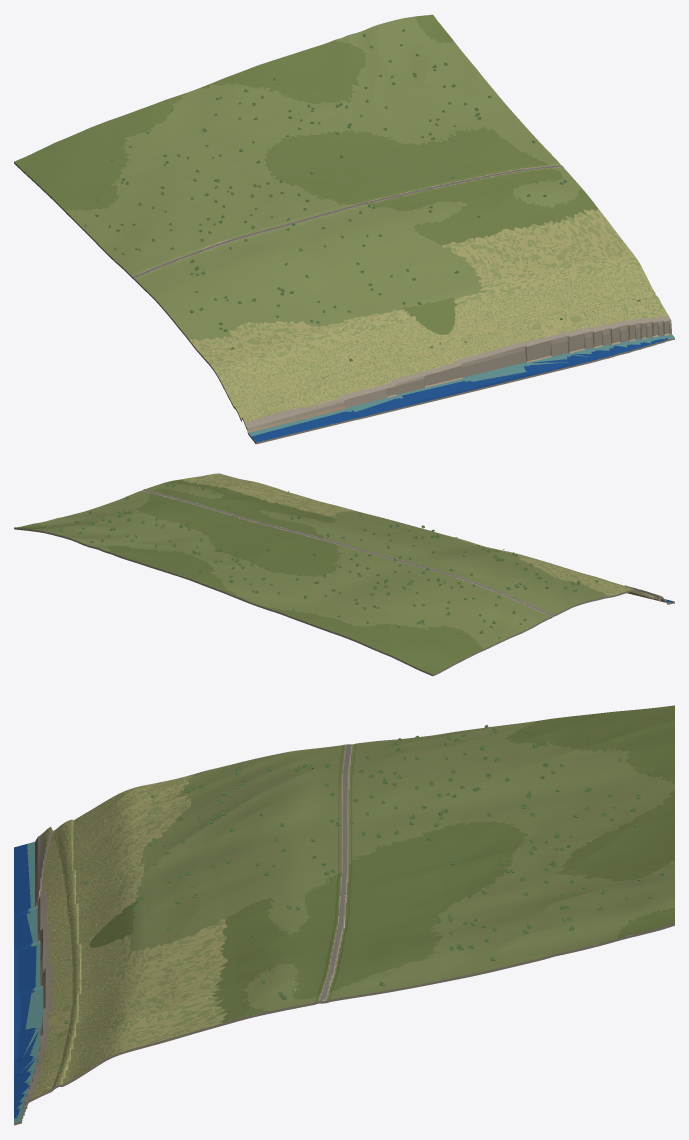
Rendered from parca_+3_-9-yakin.glb.
3 views of the same model, one above another, from view 1: azimuth 30°, elevation 25°; view 2: azimuth 150°, elevation 25°; view 3: azimuth 270°, elevation 25° (orthographic). The views are drawn at different scales.
Visible parts, largest first — view 1: parca_+3_-9_arazi, parca_+3_-9_bitkiler, parca_+3_-9_yollar; view 2: parca_+3_-9_arazi, parca_+3_-9_bitkiler, parca_+3_-9_yollar; view 3: parca_+3_-9_arazi, parca_+3_-9_bitkiler, parca_+3_-9_yollar.
Boxes of the visible parts, box(x1,y1,x2,y2) form: parca_+3_-9_arazi: box(14, 14, 674, 444); parca_+3_-9_bitkiler: box(84, 29, 655, 361); parca_+3_-9_yollar: box(133, 165, 562, 277); parca_+3_-9_arazi: box(14, 473, 674, 676); parca_+3_-9_bitkiler: box(59, 476, 598, 638); parca_+3_-9_yollar: box(142, 489, 552, 616); parca_+3_-9_arazi: box(14, 705, 674, 1125); parca_+3_-9_bitkiler: box(54, 711, 673, 1080); parca_+3_-9_yollar: box(320, 744, 351, 1001).
Bounding box in the file's own units: 1001 × 353 × 1000.
